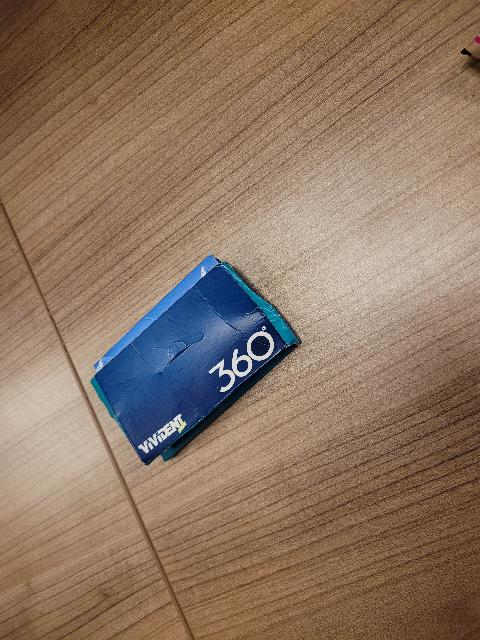Kagit: (90, 256, 302, 466)
